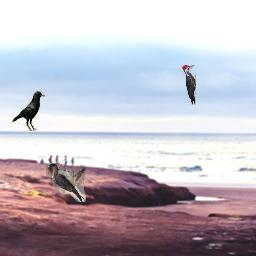Crow: (12, 91, 45, 131)
Swallow: (46, 163, 86, 202)
Woodpecker: (182, 65, 196, 105)
